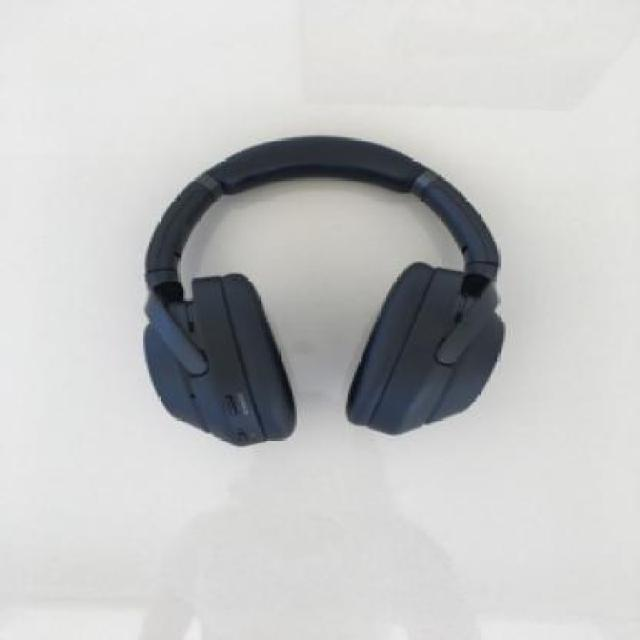earphone: (130, 82, 540, 508)
